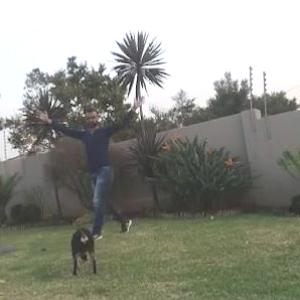takeoff: (45, 78, 139, 246)
